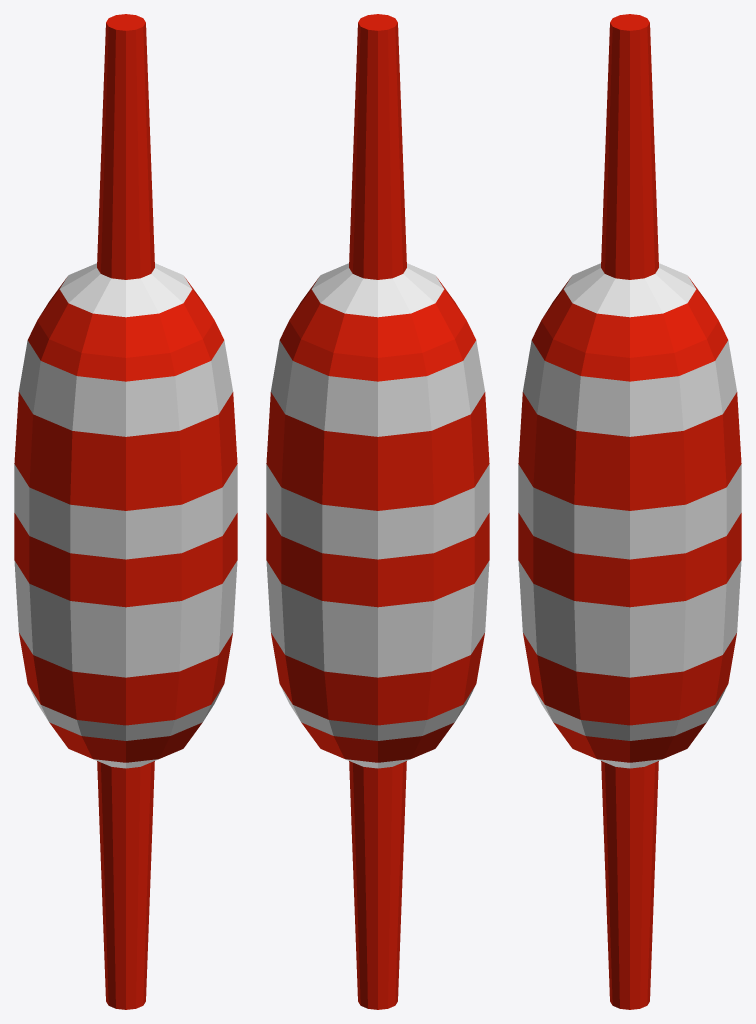
File: bobber.fbx
The picture shows the model from 3 angles, left to right: view 1: azimuth 30°, elevation 25°; view 2: azimuth 150°, elevation 25°; view 3: azimuth 270°, elevation 25°; orthographic projection.
Parts seen in each view (by area): view 1: Cylinder; view 2: Cylinder; view 3: Cylinder.
Part boxes in pixels (x1,y1,x2,y2): Cylinder: (14, 14, 237, 1009); Cylinder: (266, 14, 489, 1009); Cylinder: (518, 14, 741, 1009).
Size of the model in its own units: 85.76 by 415 by 85.76.
